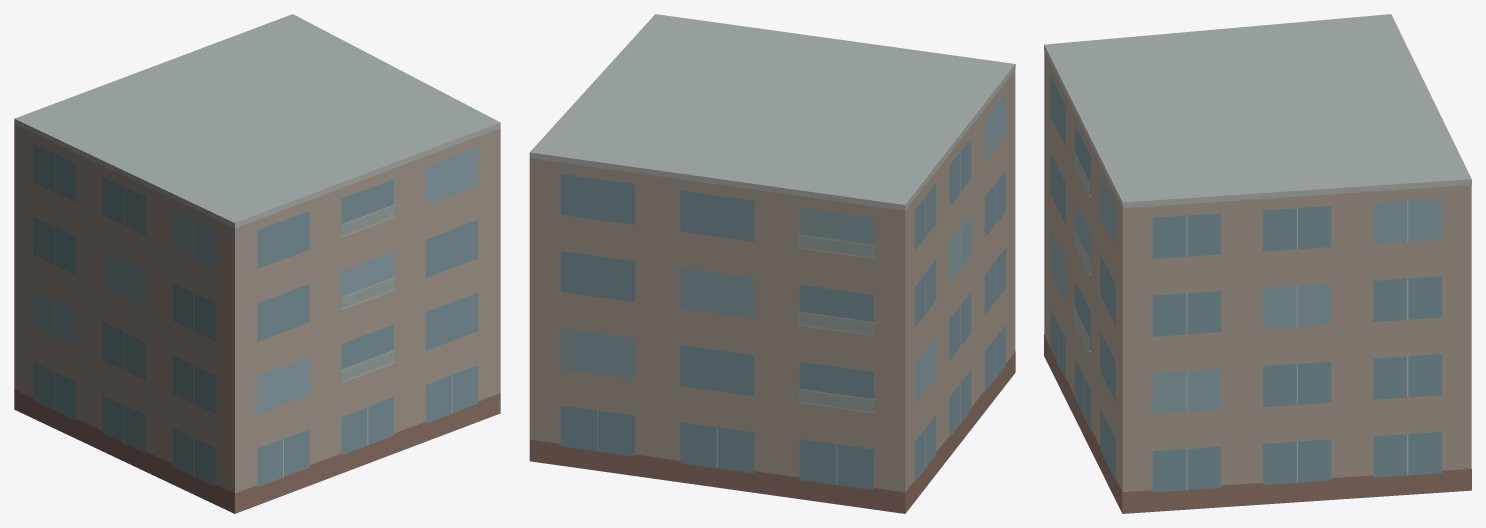
Rendered from survey-upis-32705003.glb.
The picture shows the model from 3 angles, left to right: view 1: azimuth 30°, elevation 25°; view 2: azimuth 150°, elevation 25°; view 3: azimuth 270°, elevation 25°; orthographic projection. The views are drawn at different scales.
Visible parts, largest first — view 1: survey-upis-32705003.tmp; view 2: survey-upis-32705003.tmp; view 3: survey-upis-32705003.tmp.
Part boxes in pixels (left/top/right/bottom): survey-upis-32705003.tmp: left=14, top=14, right=500, bottom=513; survey-upis-32705003.tmp: left=529, top=14, right=1015, bottom=513; survey-upis-32705003.tmp: left=1044, top=14, right=1471, bottom=513.
Bounding box in the file's own units: 17.15 × 13.2 × 16.44.
